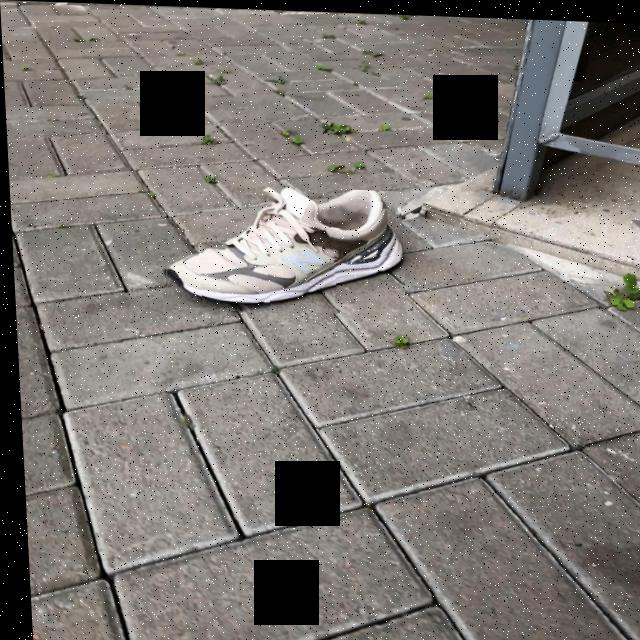shoe: (163, 185, 401, 309)
